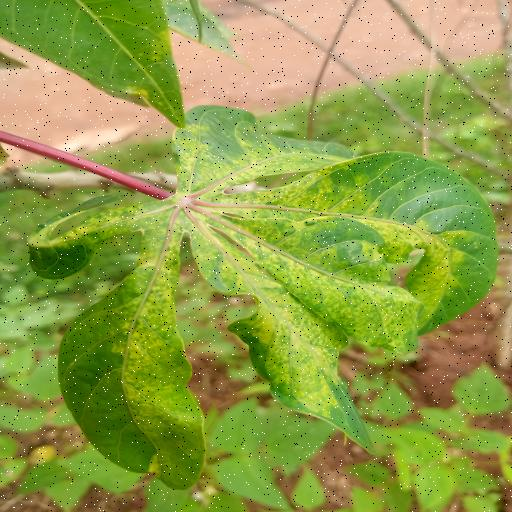Cassava_Mosaic: (28, 99, 498, 494)
